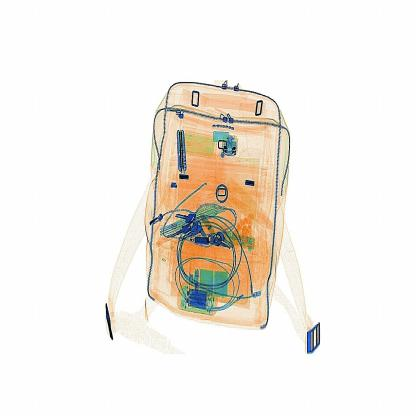scissors: (175, 128, 191, 174)
